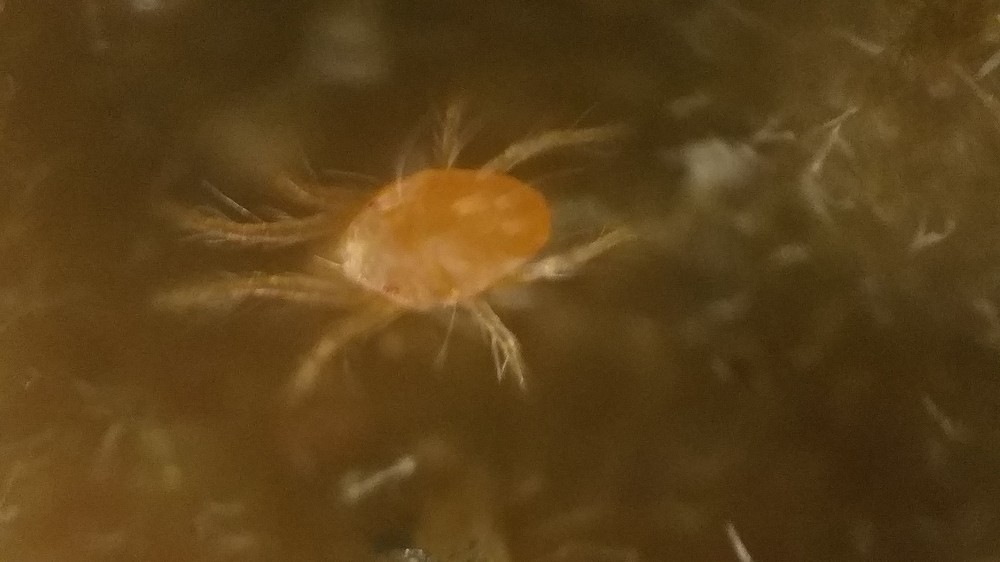Aracnido Rojo: (179, 95, 662, 431)
